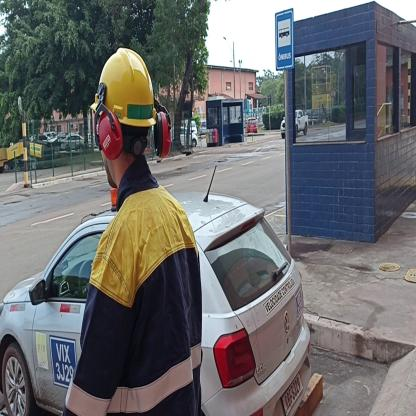C_eletrica: (89, 202, 203, 416)
Capacete: (98, 42, 150, 126)
